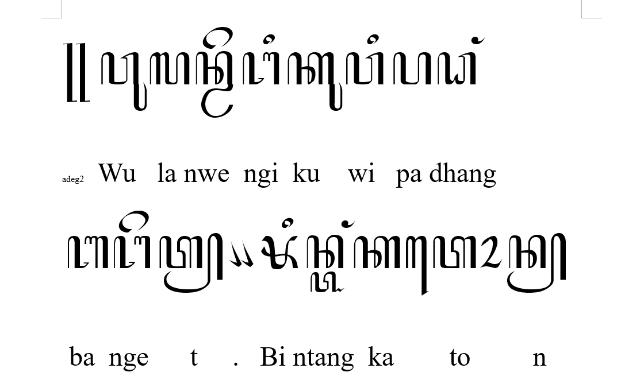-n: (508, 233, 566, 294)
-t: (159, 234, 223, 294)
B: (260, 234, 298, 270)
_t: (310, 271, 344, 293)
adeg2: (64, 43, 90, 103)
b: (67, 235, 109, 269)
dh: (438, 52, 477, 86)
e: (118, 210, 150, 234), (203, 26, 233, 49)
e1: (405, 236, 429, 296)
i: (262, 34, 276, 44), (367, 34, 379, 44), (282, 218, 294, 228)
k: (354, 236, 401, 268)
kom: (228, 242, 242, 268), (240, 241, 253, 269)
ku: (288, 52, 342, 112)
l: (150, 52, 190, 84)
n: (306, 234, 344, 270)
ng: (340, 220, 356, 230), (472, 36, 486, 46)
nga: (243, 53, 279, 86), (114, 236, 150, 268)
nw: (196, 52, 234, 118)
o: (479, 236, 503, 268)
p: (392, 51, 432, 85)
t: (434, 236, 476, 268)
w: (346, 51, 384, 85)
wu: (102, 52, 146, 110)
